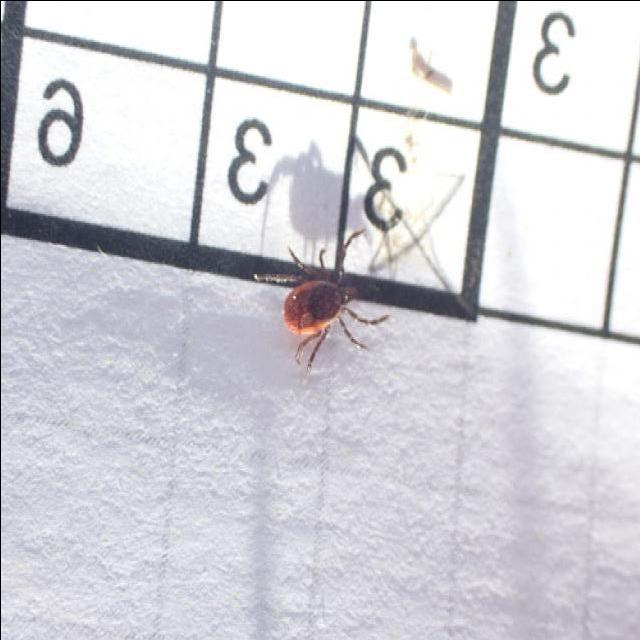Ixodes Ricinus-F: (252, 227, 392, 381)
